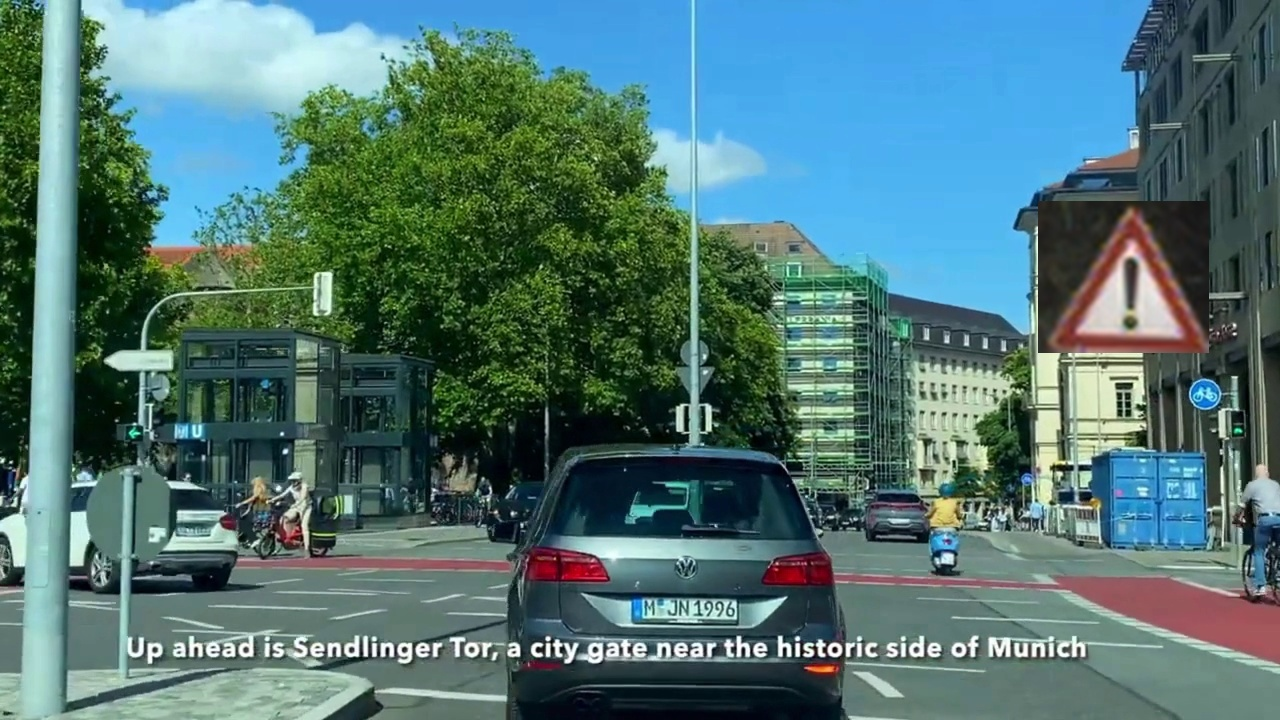Caution: (1038, 201, 1209, 353)
